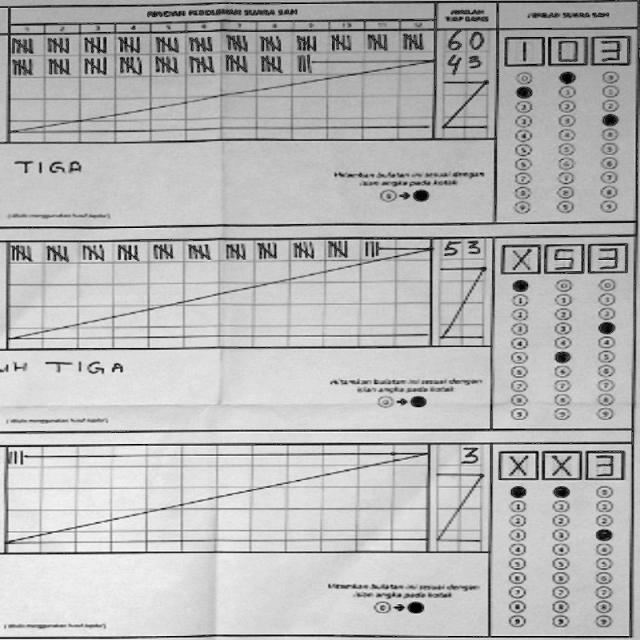Suara: (496, 235, 634, 277), (494, 443, 630, 485), (498, 30, 636, 71)
